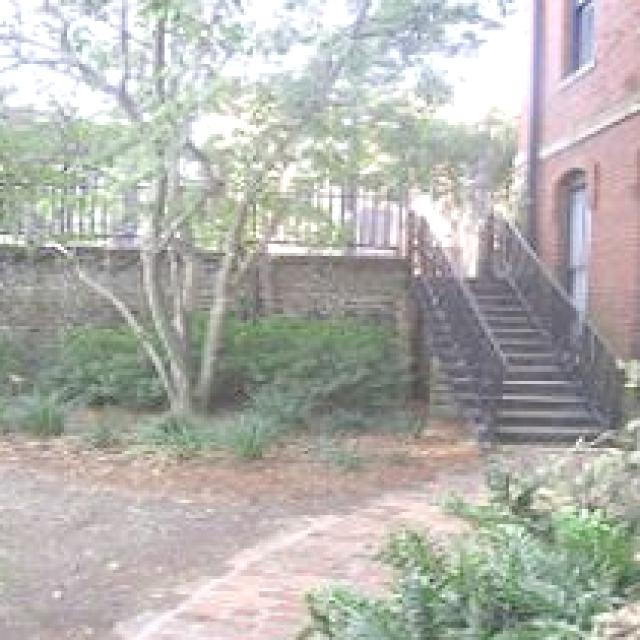upstair: (422, 208, 623, 434)
